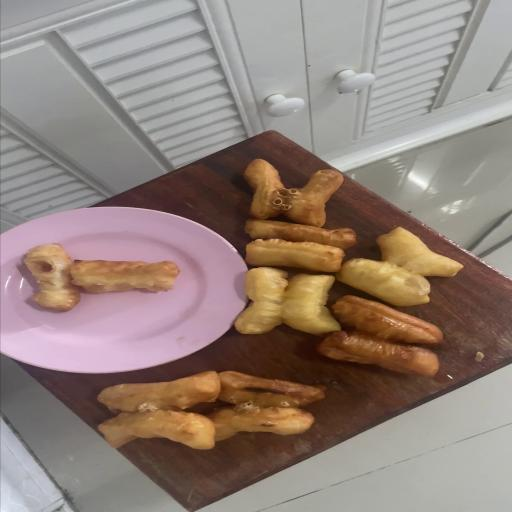street_golden_good: (232, 266, 344, 335)
